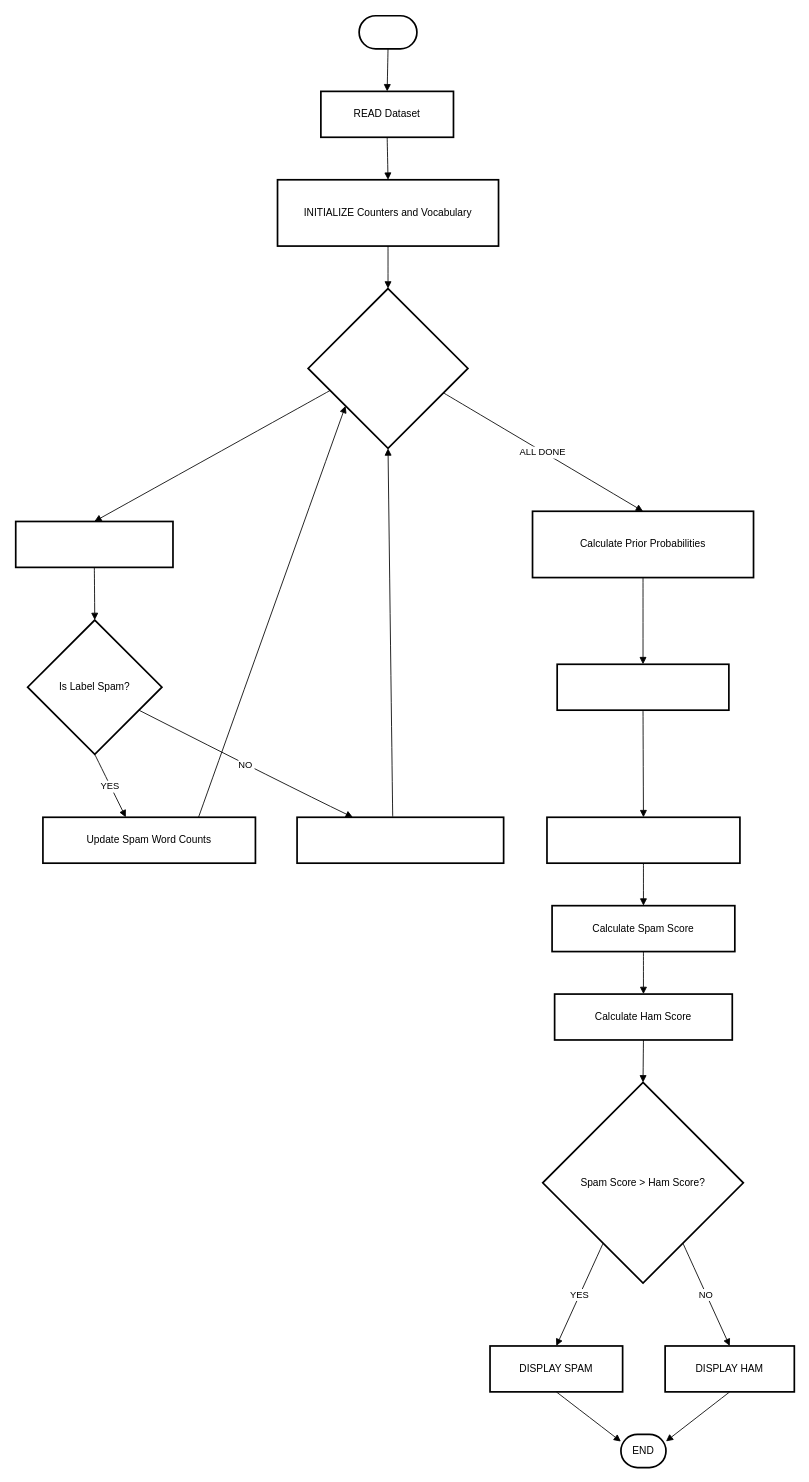
Some shapes in this 809 by 1482 pixel diagram are drawn without their labels. Here are the shapes that lost their labels. From the top down, the centre of each, then its label:
At point 387,31: "START".
At point 387,368: "FOR EACH Message".
At point 93,544: "Tokenize Message".
At point 642,687: "READ Input Message".
At point 400,840: "Update Ham Word Counts".
At point 643,840: "Tokenize Input Message".
